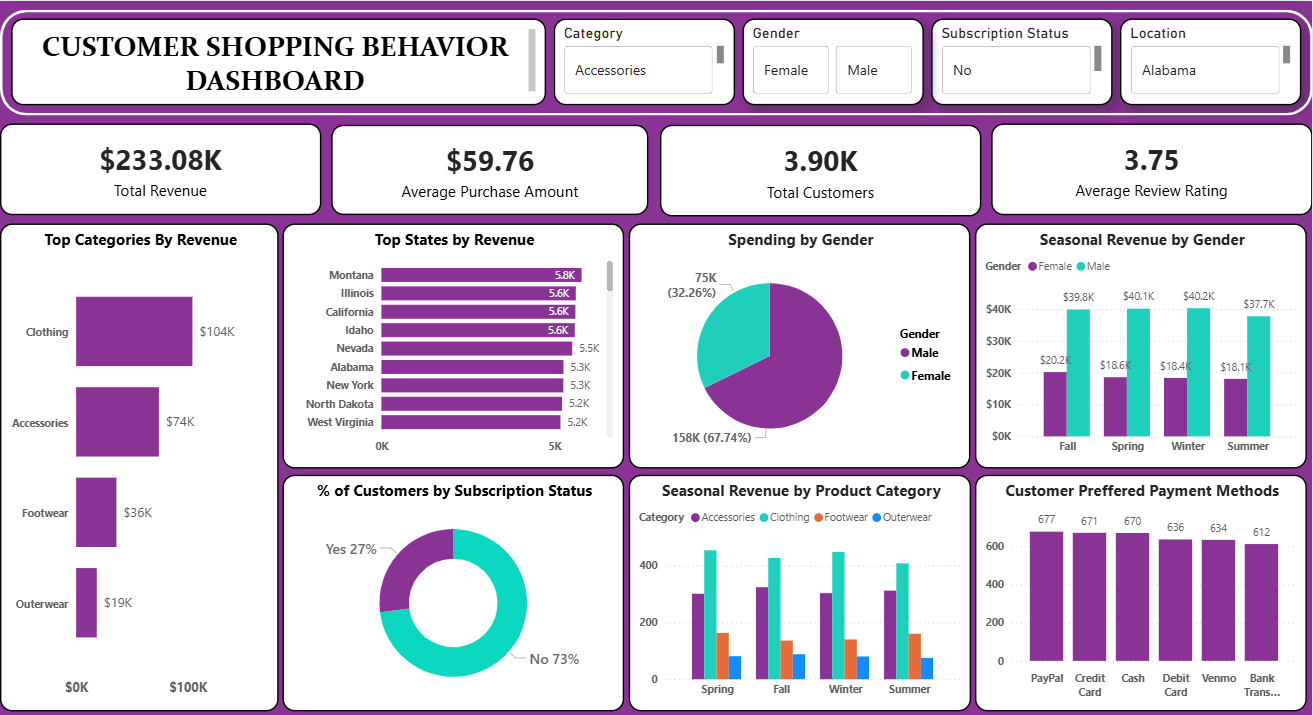

What the dashboard file says about the page in this screenshot:
{"tool":"powerbi","page":{"name":"customer_shopping_behavior_dashboard","canvas":[1500,820],"ordinal":0},"visuals":[{"type":"donutChart","title":"% of Customers by Subscription Status","fields":{"Category":["shopping_trends.Subscription_Status"],"Y":["CountNonNull(shopping_trends.Customer_ID)"]},"box":[322.9,541.4,390.2,270.7],"z":0},{"type":"card","fields":{"Values":["shopping_trends.Average Purchase Amount"]},"box":[379.2,141.5,362.7,103.1],"z":1000},{"type":"card","fields":{"Values":["shopping_trends.Number of Customers"]},"box":[754.3,141.5,366.9,104.4],"z":2000},{"type":"card","fields":{"Values":["shopping_trends.Average Review Rating"]},"box":[1133.6,140.1,366.9,104.4],"z":3000},{"type":"clusteredBarChart","title":"Top Categories By Revenue","fields":{"Category":["shopping_trends.Category"],"Y":["Sum(shopping_trends.Purchase_Amount_USD)"]},"box":[0,254.2,318.8,557.8],"z":4000},{"type":"advancedSlicerVisual","title":"Subscription Status","fields":{"Values":["shopping_trends.Subscription_Status"]},"box":[1064.9,20.6,207.5,98.9],"z":5000},{"type":"advancedSlicerVisual","title":"Gender","fields":{"Values":["shopping_trends.Gender"]},"box":[849.1,20.6,207.5,98.9],"z":6000},{"type":"advancedSlicerVisual","title":"Category","fields":{"Values":["shopping_trends.Category"]},"box":[633.4,20.6,207.5,98.9],"z":7000},{"type":"clusteredColumnChart","title":"Seasonal Revenue by Product Category","fields":{"Category":["shopping_trends.Season"],"Series":["shopping_trends.Category"],"Y":["CountNonNull(shopping_trends.Customer_ID)"]},"box":[717.9,541.4,391.6,270.7],"z":8000},{"type":"pieChart","title":"Spending by Gender","fields":{"Category":["shopping_trends.Gender"],"Y":["Sum(shopping_trends.Purchase_Amount_USD)"]},"box":[718.6,254.2,390.2,280.3],"z":9000},{"type":"clusteredColumnChart","title":"Customer Preffered Payment Methods","fields":{"Y":["CountNonNull(shopping_trends.Customer_ID)"],"Category":["shopping_trends.Preferred_Payment_Method"]},"box":[1114.3,541.4,379.2,270.7],"z":10000},{"type":"clusteredColumnChart","title":"Seasonal Revenue by Gender","fields":{"Category":["shopping_trends.Season"],"Series":["shopping_trends.Gender"],"Y":["Sum(shopping_trends.Purchase_Amount_USD)"]},"box":[1114.3,254.2,379.2,280.3],"z":11000},{"type":"card","fields":{"Values":["shopping_trends.total revenue"]},"box":[0,140.1,366.9,104.4],"z":12000},{"type":"textbox","box":[12.4,20.6,611.4,98.9],"z":13000},{"type":"advancedSlicerVisual","title":"Location","fields":{"Values":["shopping_trends.Location"]},"box":[1280.6,20.6,207.5,98.9],"z":14000},{"type":"shape","box":[0,9.6,1500.4,120.9],"z":15000},{"type":"clusteredBarChart","title":"Top States by Revenue","fields":{"Y":["Sum(shopping_trends.Purchase_Amount_USD)"],"Category":["shopping_trends.Location"]},"box":[322.9,254.2,390.2,280.3],"z":16000}]}

Visuals, with their boxes in screenshot pixels (x1, y1, x2, y2), scaled from the page's 1500x820 canvas onto the 1313x715 screenshot:
"% of Customers by Subscription Status" donutChart: (283, 472, 624, 708)
card - shopping_trends.Average Purchase Amount: (332, 123, 649, 213)
card - shopping_trends.Number of Customers: (660, 123, 981, 214)
card - shopping_trends.Average Review Rating: (992, 122, 1312, 213)
"Top Categories By Revenue" clusteredBarChart: (0, 222, 279, 708)
"Subscription Status" advancedSlicerVisual: (932, 18, 1114, 104)
"Gender" advancedSlicerVisual: (743, 18, 925, 104)
"Category" advancedSlicerVisual: (554, 18, 736, 104)
"Seasonal Revenue by Product Category" clusteredColumnChart: (628, 472, 971, 708)
"Spending by Gender" pieChart: (629, 222, 971, 466)
"Customer Preffered Payment Methods" clusteredColumnChart: (975, 472, 1307, 708)
"Seasonal Revenue by Gender" clusteredColumnChart: (975, 222, 1307, 466)
card - shopping_trends.total revenue: (0, 122, 321, 213)
textbox: (11, 18, 546, 104)
"Location" advancedSlicerVisual: (1121, 18, 1303, 104)
shape: (0, 8, 1312, 114)
"Top States by Revenue" clusteredBarChart: (283, 222, 624, 466)
